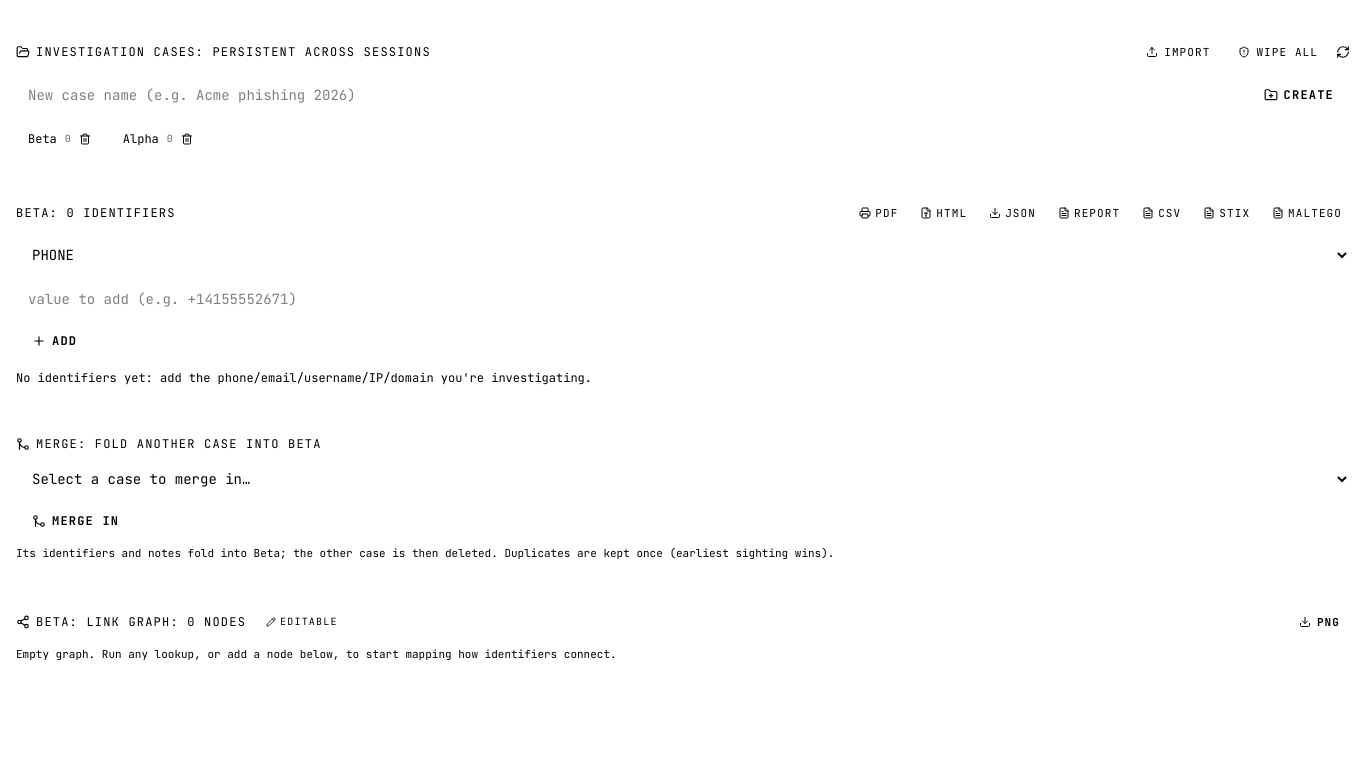
Test: <CasesPanel> create / delete › deletes the active case (clearing selection) and a non-active one (keeping it)
This screenshot has width=1366, height=768.
Expected: the text "Beta: 0 identifiers" is shown, [16,204,176,222]
Click the button named "Delete Alpha".
click(187, 138)  # box [181,132,193,144]
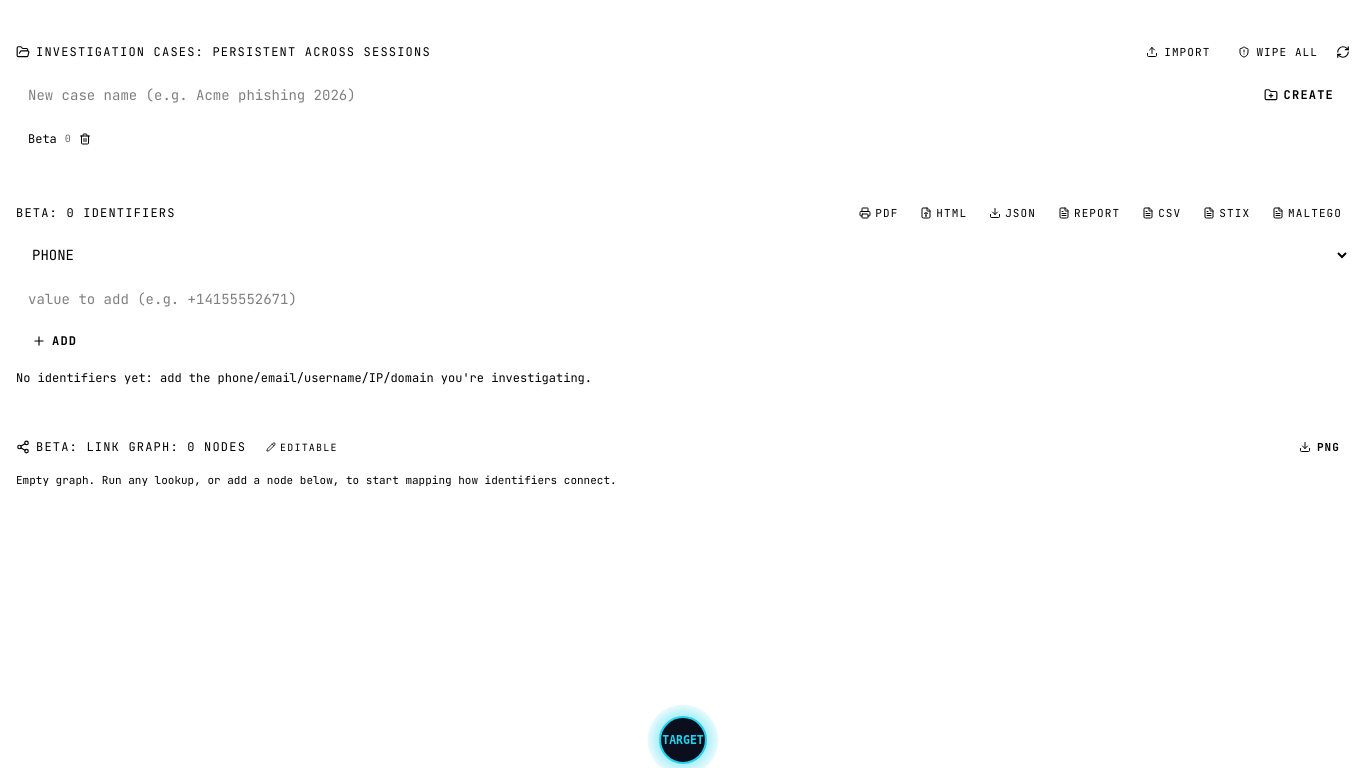
Expected: the text "Beta: 0 identifiers" is shown, [16,204,176,222]
Expected: the button "Alpha" is gone
Click the button named "Delete Beta".
click(85, 138)  # box [79,132,91,144]
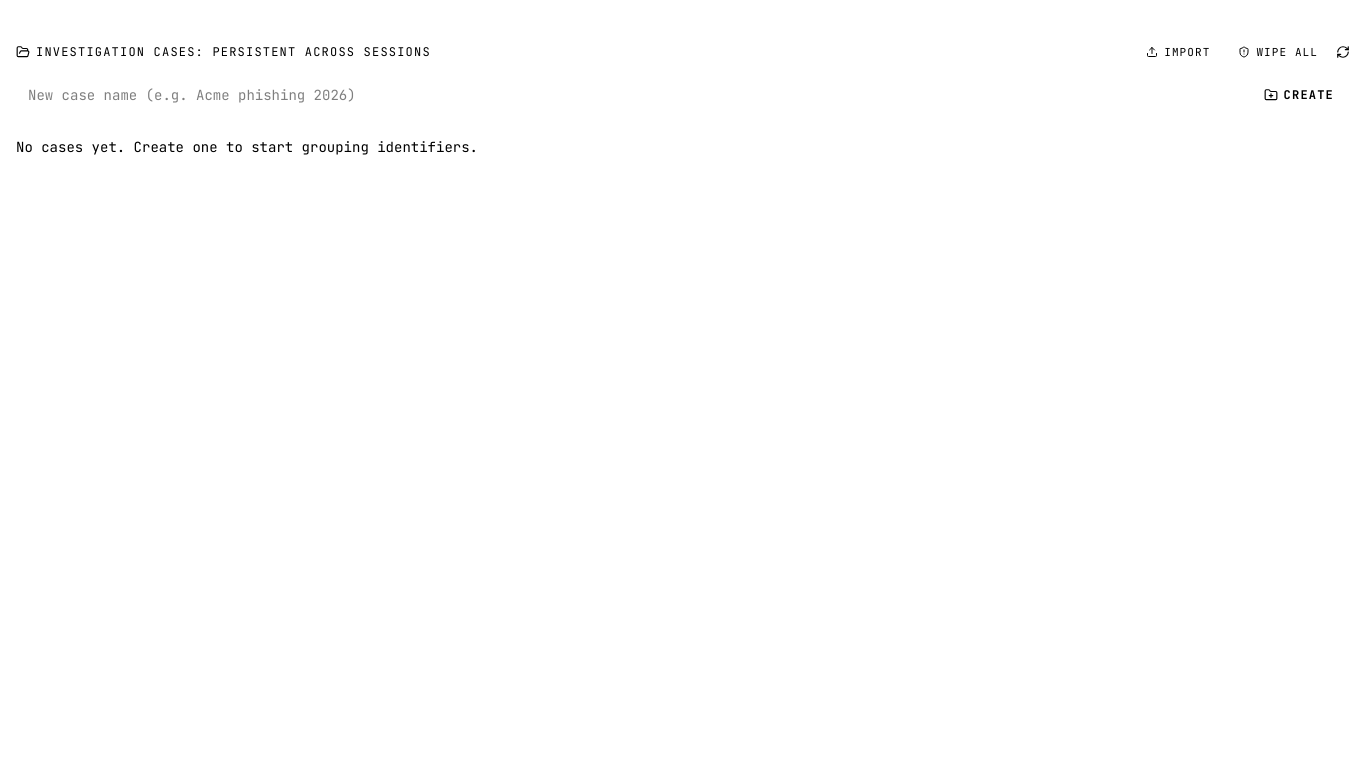
Expected: the text "No cases yet. Create one to start grouping identifiers." is shown, [16,138,478,156]
